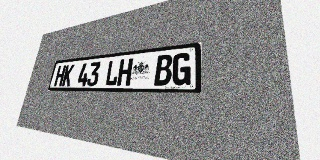3: (86, 61, 101, 86)
4: (77, 63, 91, 86)
B: (154, 54, 173, 85)
G: (171, 52, 192, 85)
H: (117, 58, 133, 86), (54, 65, 66, 86)
K: (62, 64, 75, 86)
L: (104, 59, 120, 86)
